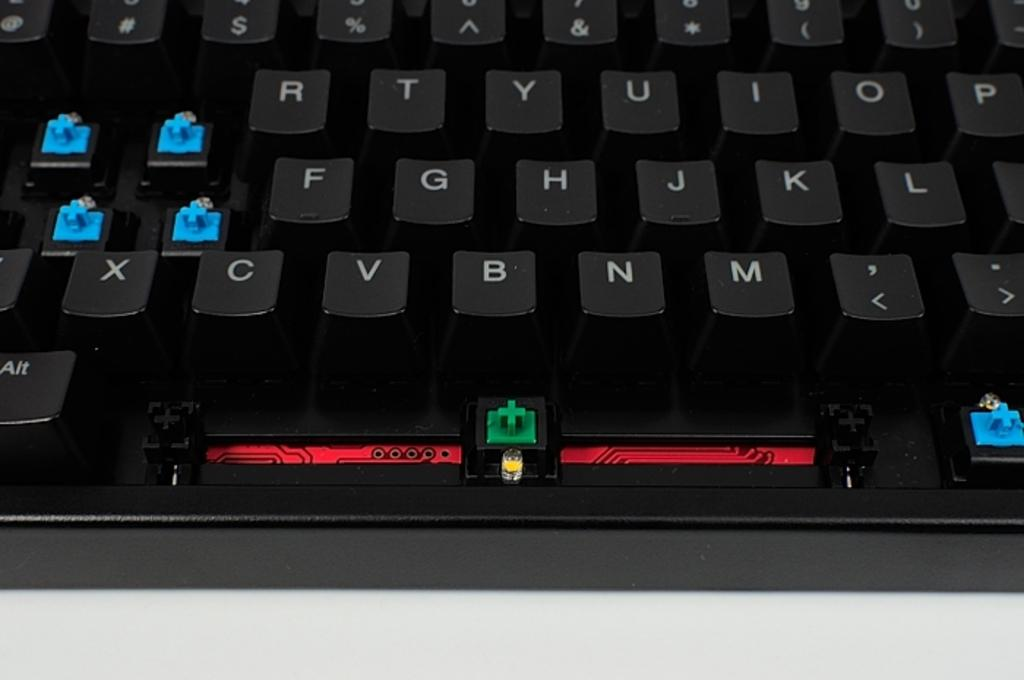Computer-keyboard: (0, 0, 1023, 592)
